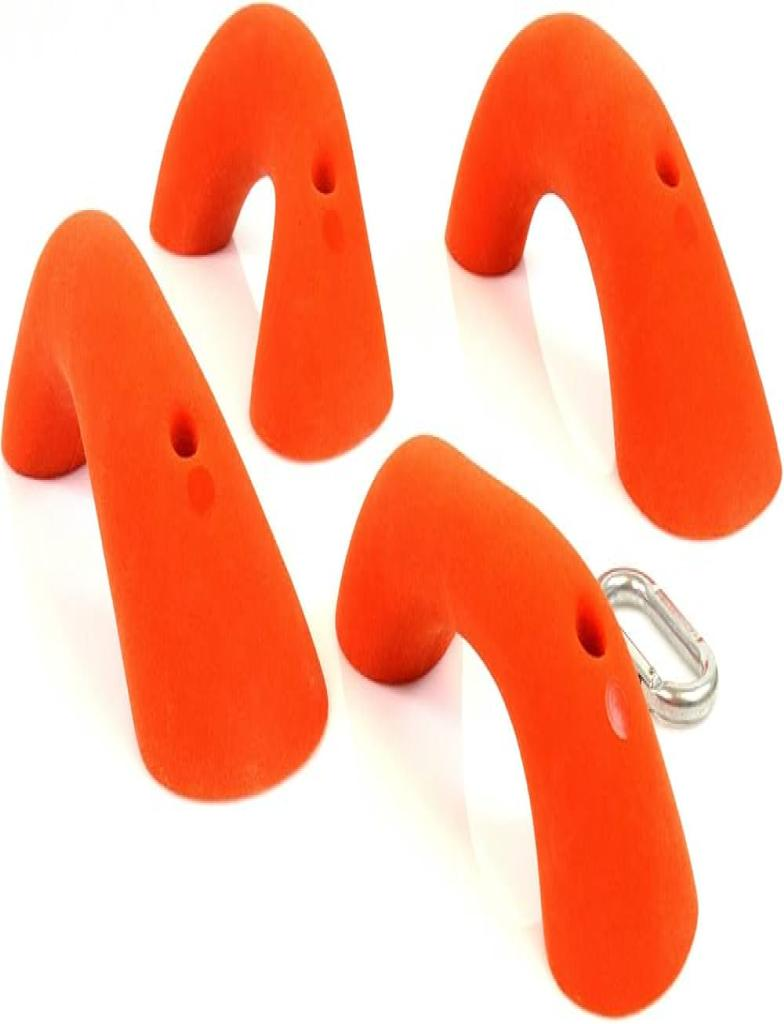jug: (336, 437, 697, 1015), (2, 212, 327, 799), (445, 13, 781, 538), (150, 6, 392, 459)
